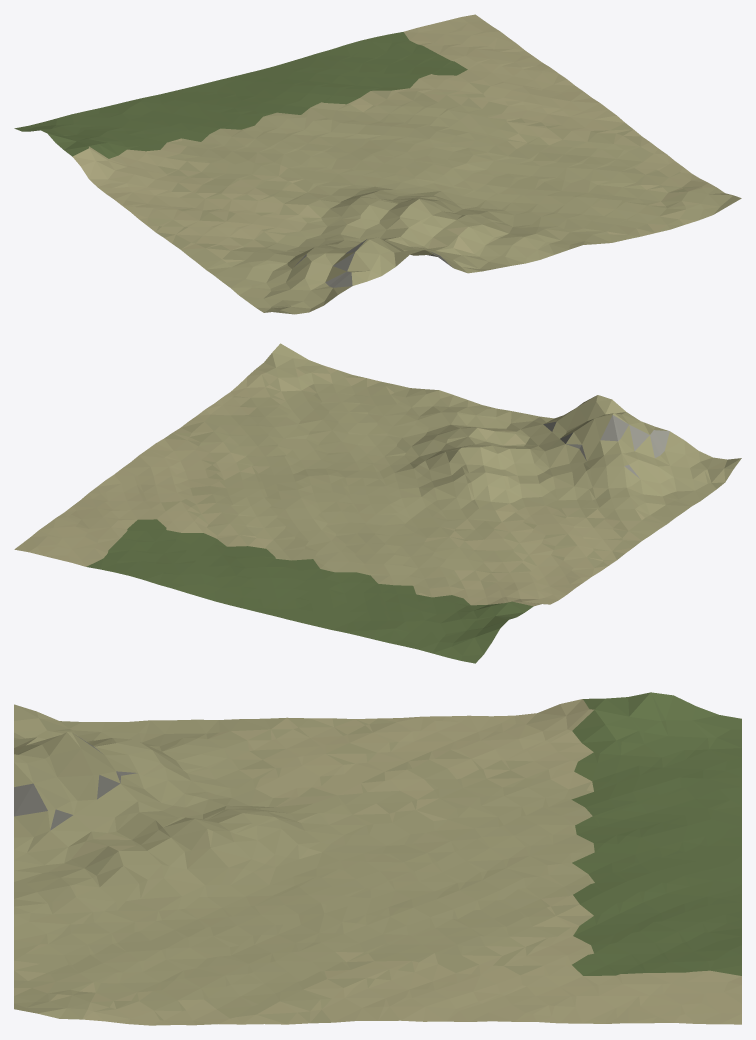
Rendered from Ground_-2_-3.glb.
The picture shows the model from 3 angles, top to bottom: view 1: azimuth 30°, elevation 25°; view 2: azimuth 150°, elevation 25°; view 3: azimuth 270°, elevation 25°; orthographic projection. The views are drawn at different scales.
Visible parts, largest first — view 1: Ground_-2_-3; view 2: Ground_-2_-3; view 3: Ground_-2_-3.
Part boxes in pixels (left/top/right/bottom): Ground_-2_-3: left=14, top=14, right=741, bottom=314; Ground_-2_-3: left=14, top=343, right=741, bottom=663; Ground_-2_-3: left=14, top=692, right=741, bottom=1025.
Size of the model in its own units: 768 by 72.53 by 768.
